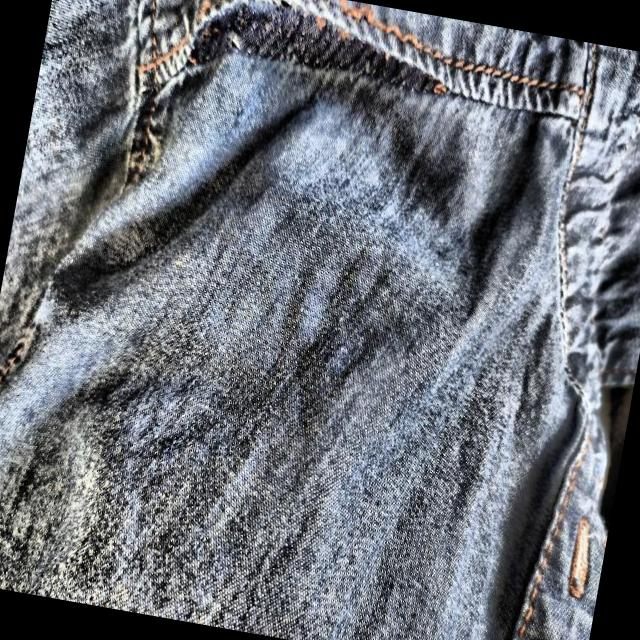gray stitch: (163, 0, 449, 139)
